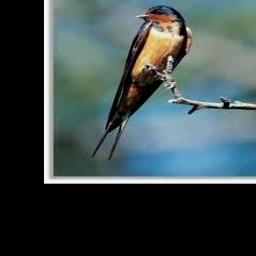Swallow: (91, 5, 193, 160)
